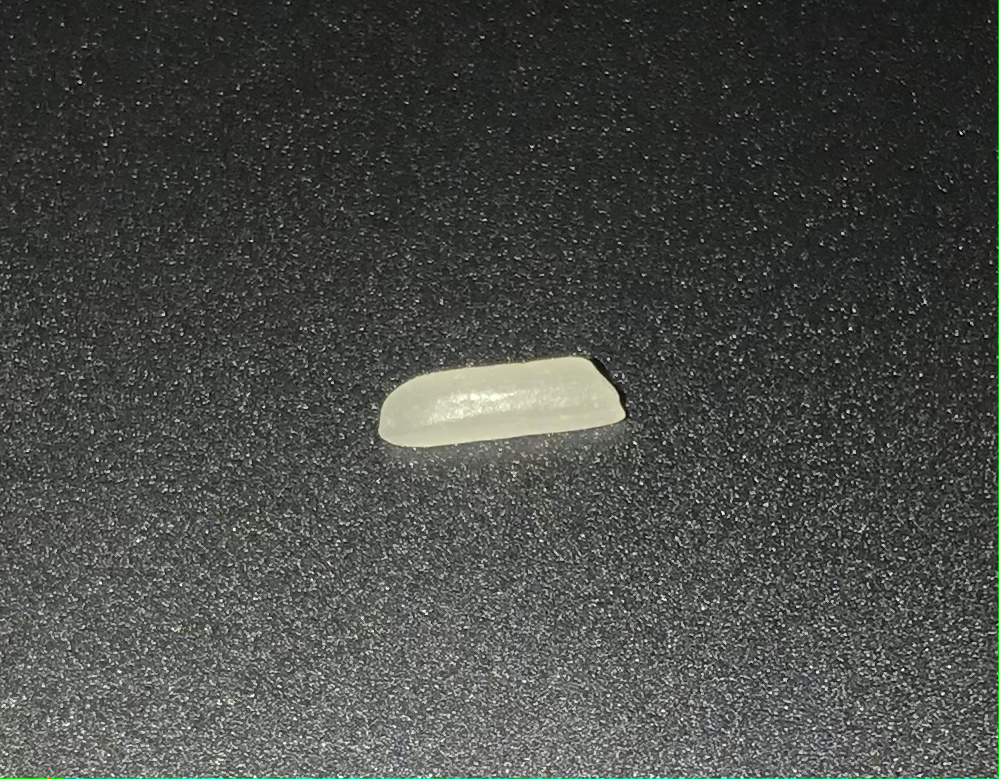Gao Thom My: (372, 351, 634, 451)
